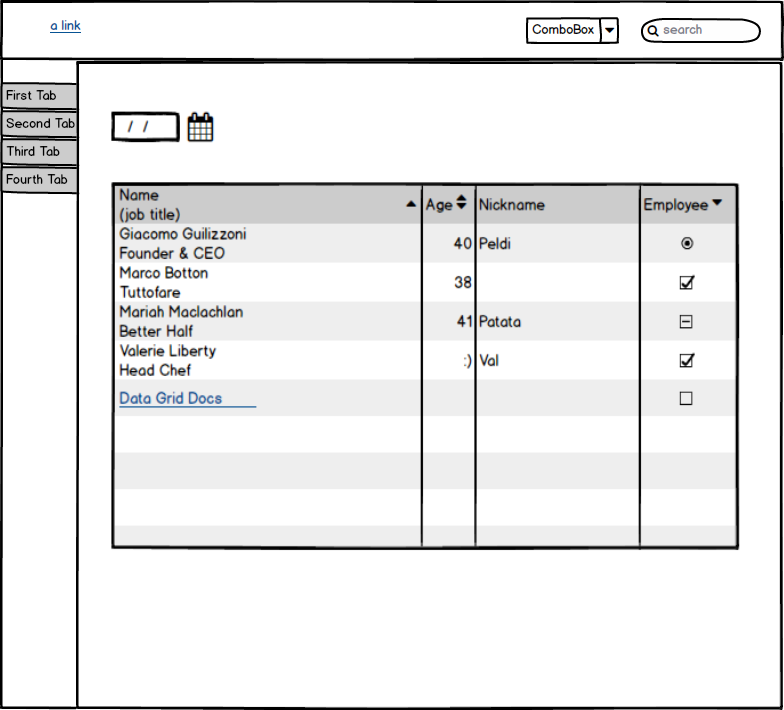date_picker: (106, 103, 221, 144)
navlink: (44, 14, 92, 39)
search: (638, 13, 765, 48)
select_box: (522, 13, 623, 45)
sidebar: (1, 72, 84, 208)
table: (108, 177, 746, 555)
